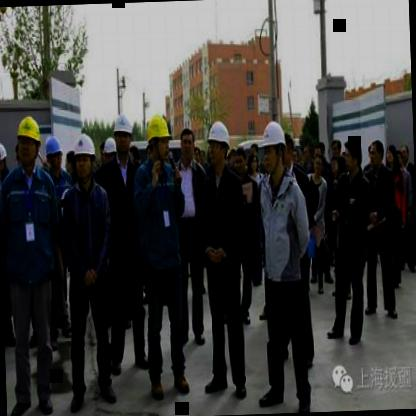head: (176, 122, 197, 166), (342, 138, 362, 177), (366, 138, 386, 172), (235, 146, 248, 174), (329, 153, 343, 177), (384, 144, 398, 168), (400, 143, 412, 169), (312, 155, 324, 179), (248, 152, 259, 174)
helmet: (14, 111, 44, 168), (260, 117, 288, 176), (204, 118, 232, 168), (72, 132, 98, 183), (146, 112, 172, 162), (112, 112, 136, 158), (44, 136, 66, 176), (102, 136, 119, 172), (0, 140, 10, 180)
